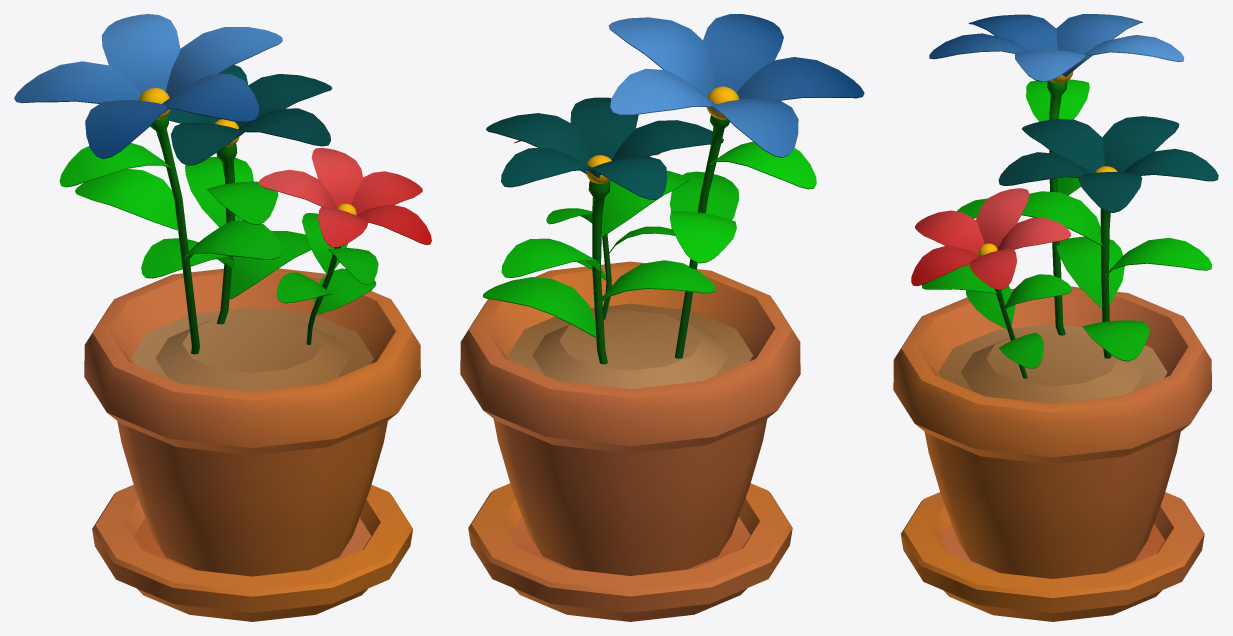
The model's file is Flower Pot_4.fbx.
The picture shows the model from 3 angles, left to right: view 1: azimuth 30°, elevation 25°; view 2: azimuth 150°, elevation 25°; view 3: azimuth 270°, elevation 25°; orthographic projection. The views are drawn at different scales.
Parts seen in each view (by area): view 1: Flower Pot_4; view 2: Flower Pot_4; view 3: Flower Pot_4.
Boxes of the visible parts, box(x1,y1,x2,y2) form: Flower Pot_4: box(14, 14, 431, 621); Flower Pot_4: box(460, 14, 864, 621); Flower Pot_4: box(893, 14, 1218, 621).
Bounding box in the file's own units: 0.2854 × 0.4262 × 0.2476.
Materials: 1 (1 with a texture image).
